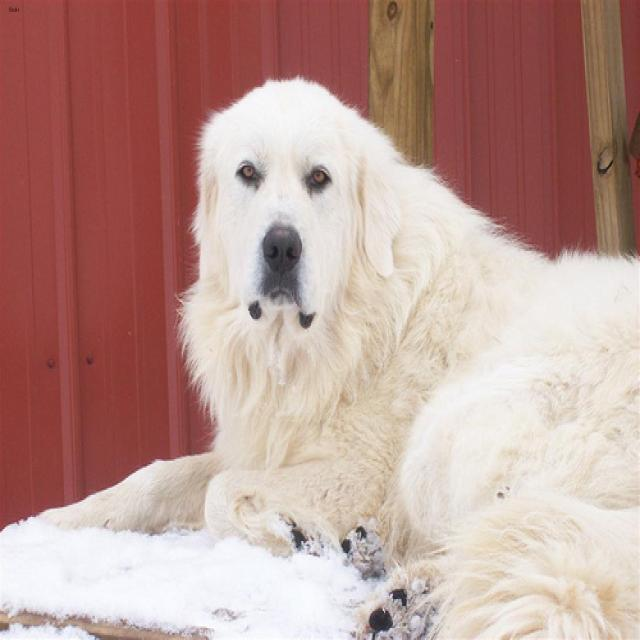dog-great_pyrenees: (35, 63, 637, 637)
